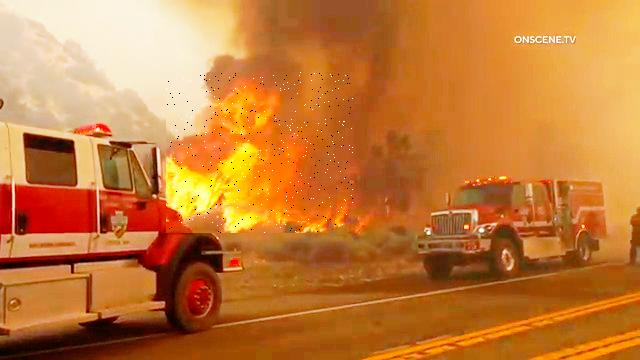smoke: (167, 72, 354, 233)
